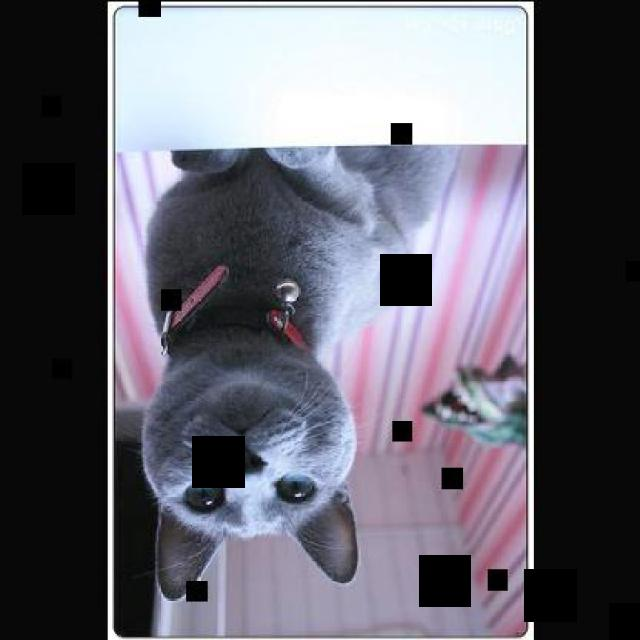unauthorized: (138, 145, 460, 600)
